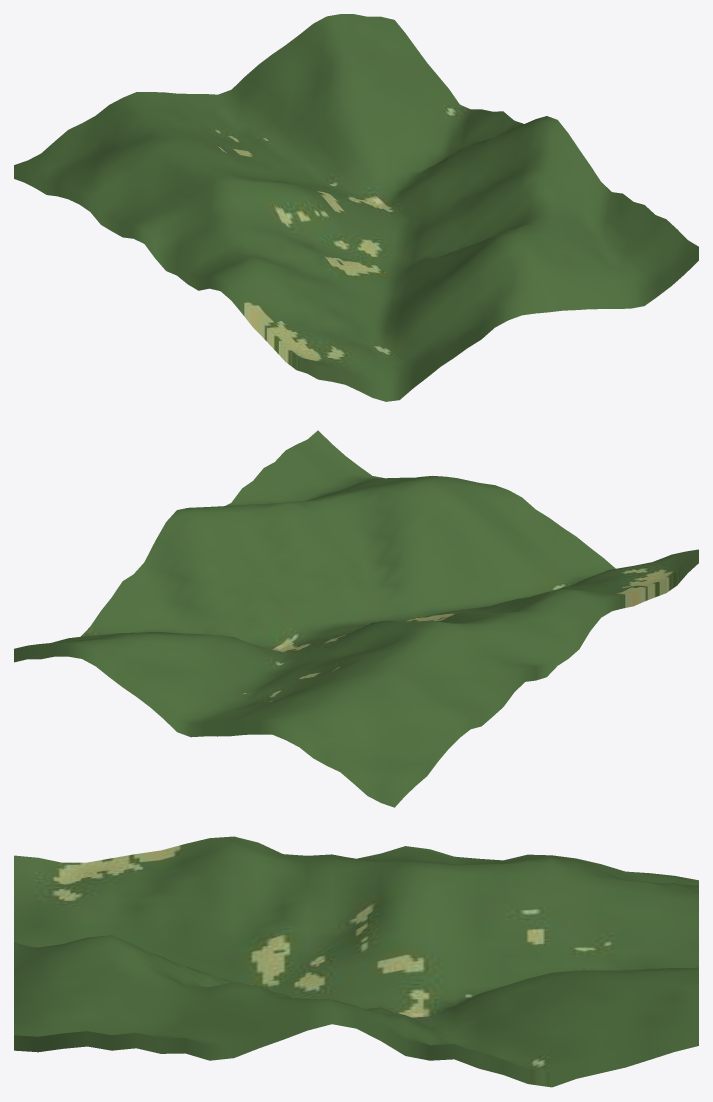
The picture shows the model from 3 angles, top to bottom: view 1: azimuth 30°, elevation 25°; view 2: azimuth 150°, elevation 25°; view 3: azimuth 270°, elevation 25°; orthographic projection. The views are drawn at different scales.
Size of the model in its own units: 1765 by 463 by 2442.
Materials: 1 (1 with a texture image).
